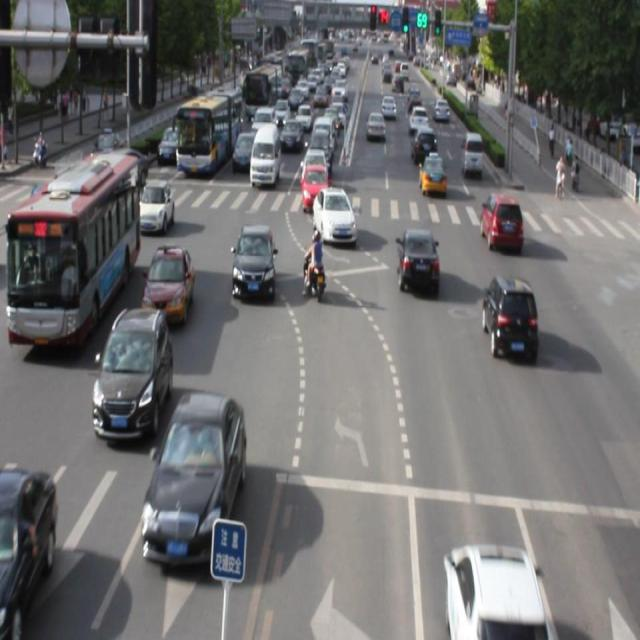car: (143, 393, 246, 563), (443, 543, 550, 640), (95, 307, 170, 438), (1, 464, 58, 632), (481, 274, 536, 359), (141, 244, 194, 320), (232, 222, 275, 298), (312, 183, 356, 244), (479, 190, 523, 251), (398, 227, 438, 291), (139, 180, 172, 232)
van: (8, 153, 138, 342)
